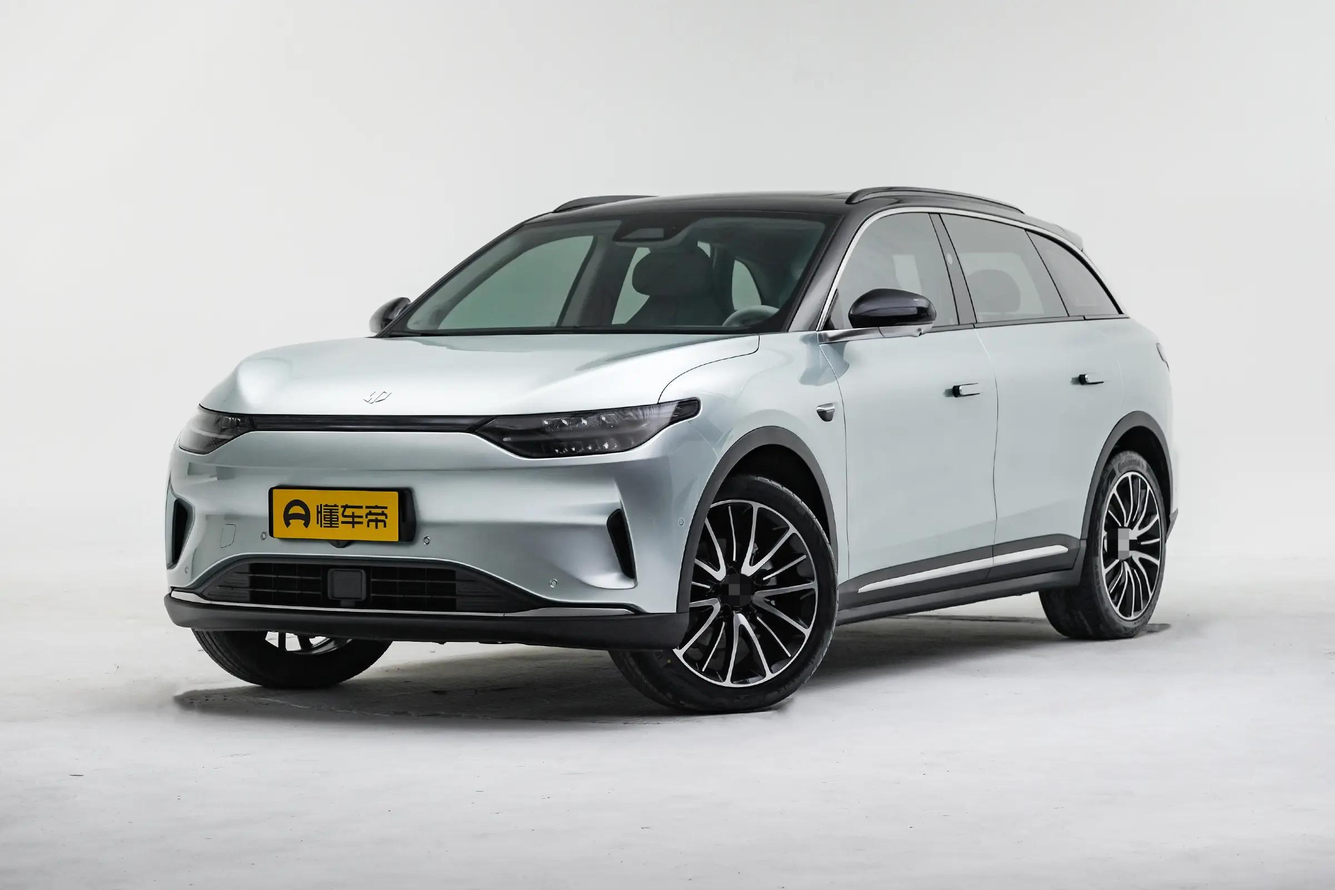LEAPMOTOR: (363, 389, 392, 405)
